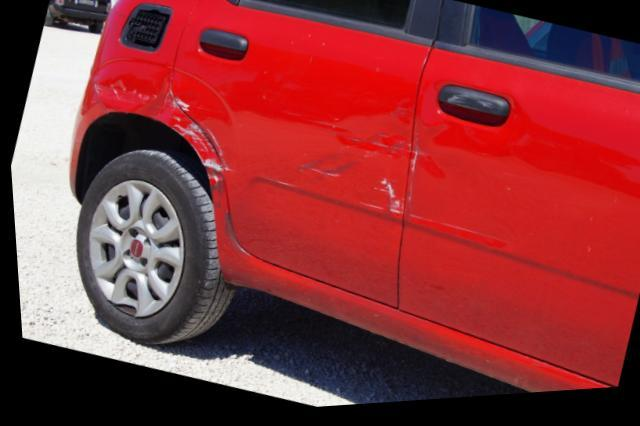dent: (94, 70, 154, 114)
scratch: (239, 111, 417, 226), (170, 96, 222, 198)
